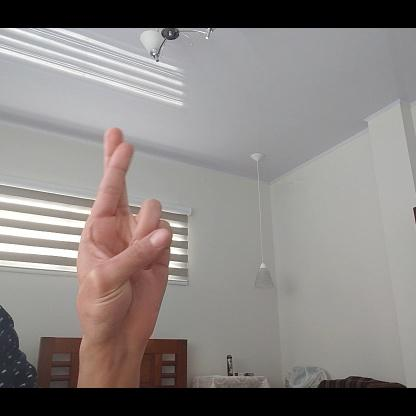R: (76, 126, 172, 349)
